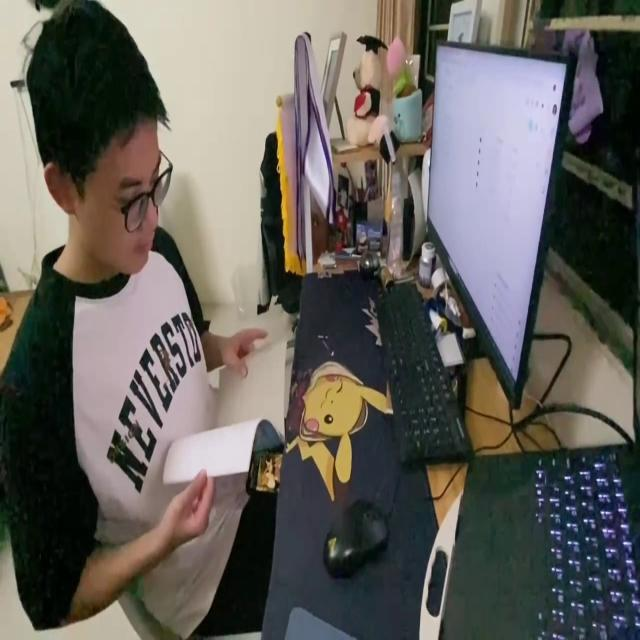book: (154, 322, 293, 504)
laptop: (420, 34, 581, 415), (440, 446, 640, 640)
student: (0, 0, 274, 640)
